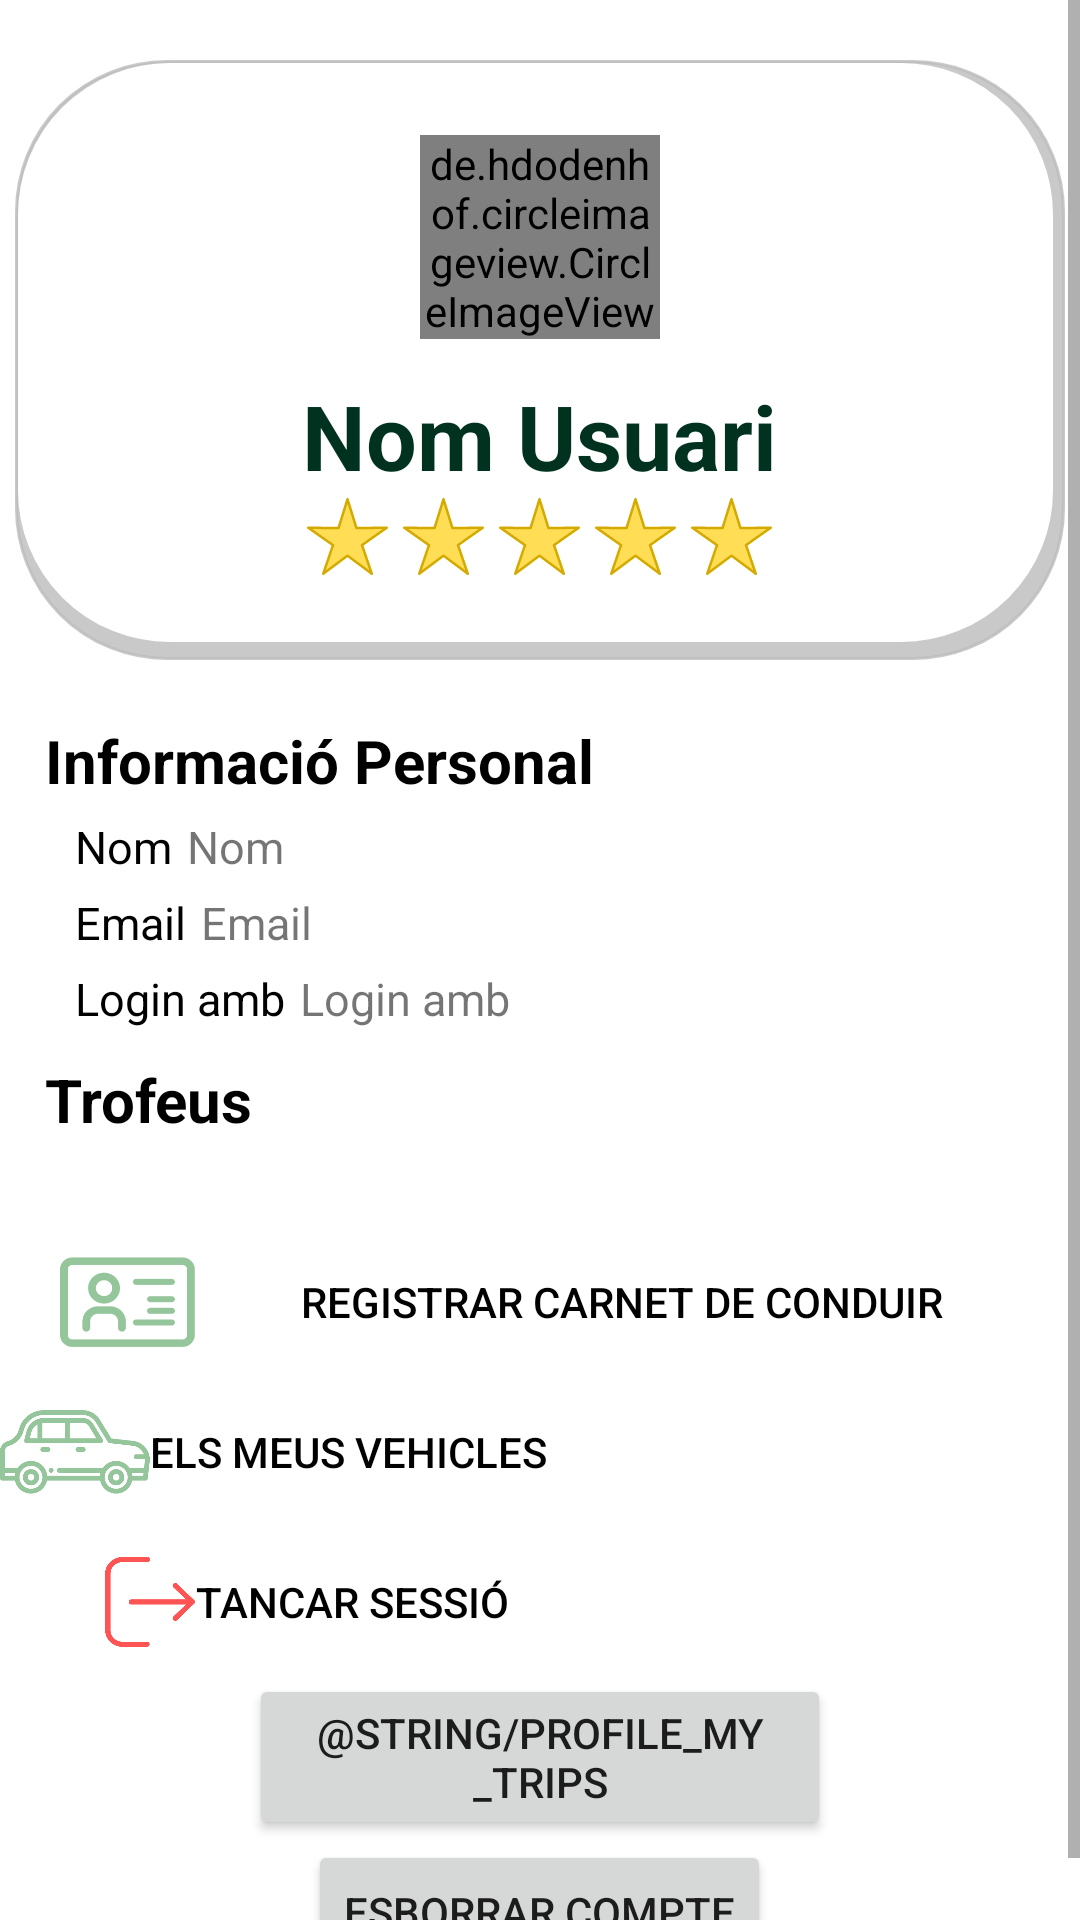

Point at icon controls on the screen. Image size 1080 x 1920, points as [x,y].
starplena: [347,536], [443,536], [539,536], [635,536], [731,536]
